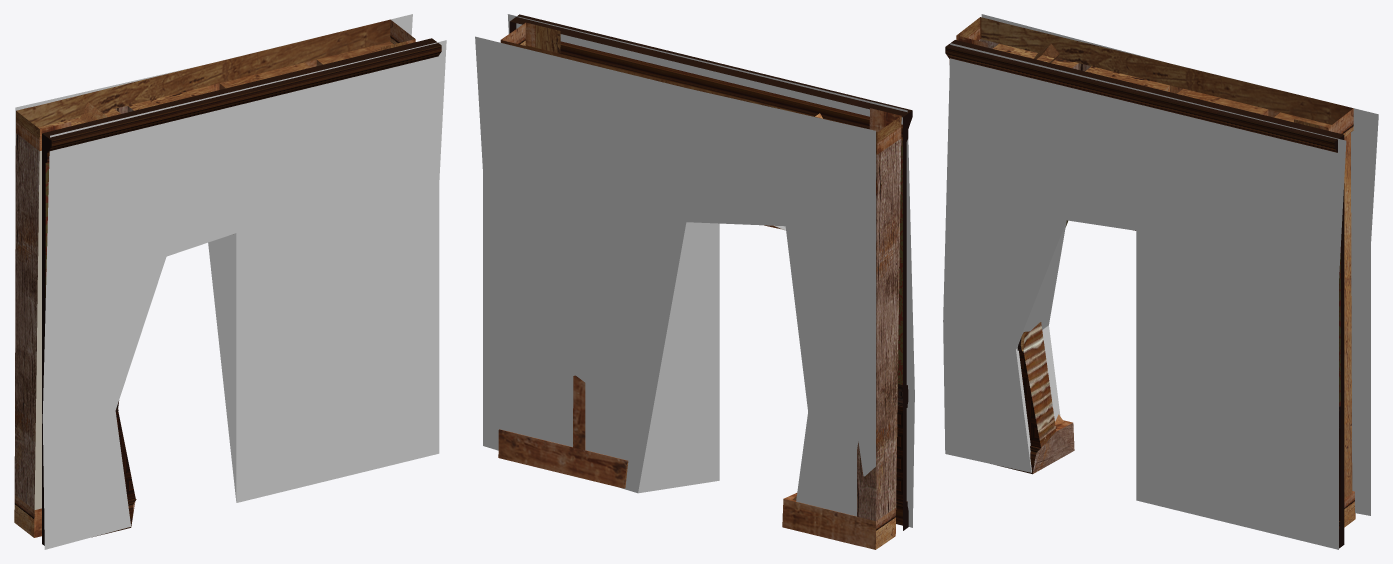
File: Wall1Breech1.fbx
The picture shows the model from 3 angles, left to right: view 1: azimuth 30°, elevation 25°; view 2: azimuth 150°, elevation 25°; view 3: azimuth 330°, elevation 25°; orthographic projection.
Parts seen in each view (by area): view 1: Wall1BreechCOlMESH, WallSection1BREECH; view 2: Wall1BreechCOlMESH, WallSection1BREECH; view 3: Wall1BreechCOlMESH, WallSection1BREECH.
Part boxes in pixels (left/top/right/bottom): Wall1BreechCOlMESH: left=15, top=14, right=446, bottom=549; WallSection1BREECH: left=14, top=19, right=441, bottom=545; Wall1BreechCOlMESH: left=475, top=14, right=914, bottom=527; WallSection1BREECH: left=498, top=14, right=912, bottom=549; Wall1BreechCOlMESH: left=943, top=14, right=1378, bottom=549; WallSection1BREECH: left=945, top=17, right=1355, bottom=548.
Bounding box in the file's own units: 382 × 378 × 60.77.
